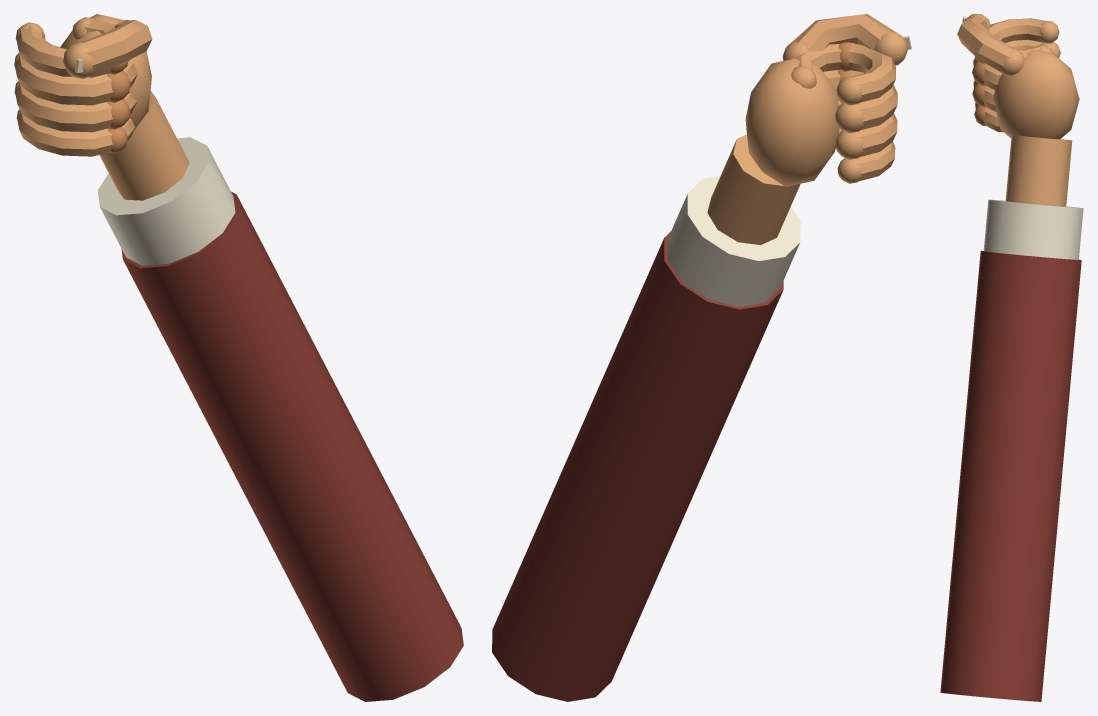
The model's file is fp_hand.glb.
3 renders of one model, left to right at view 1: azimuth 30°, elevation 25°; view 2: azimuth 150°, elevation 25°; view 3: azimuth 270°, elevation 25°, orthographic. The views are drawn at different scales.
Parts seen in each view (by area): view 1: fp_hand; view 2: fp_hand; view 3: fp_hand.
Part boxes in pixels (<box>): fp_hand: <box>14,14,463,701</box>; fp_hand: <box>492,14,911,701</box>; fp_hand: <box>940,14,1083,701</box>.
Bounding box in the file's own units: 0.5066 × 0.8665 × 0.1936.
